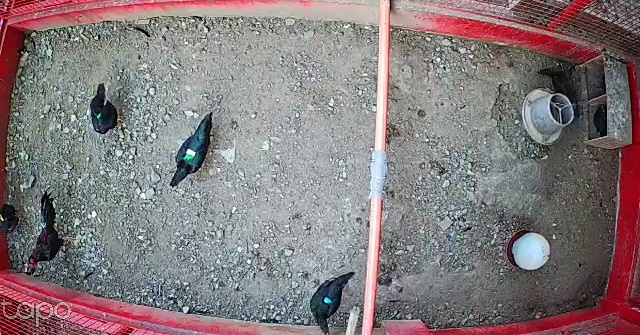Chicken: (170, 116, 220, 188), (311, 266, 357, 335), (535, 63, 581, 120), (0, 202, 25, 239)
Rooster: (19, 190, 76, 271)
Saddle_Color_Blue: (322, 295, 332, 306)
Saddle_Color_Yellow: (0, 214, 6, 223)
Saddle_Color_YellowGreen: (184, 148, 197, 162)
